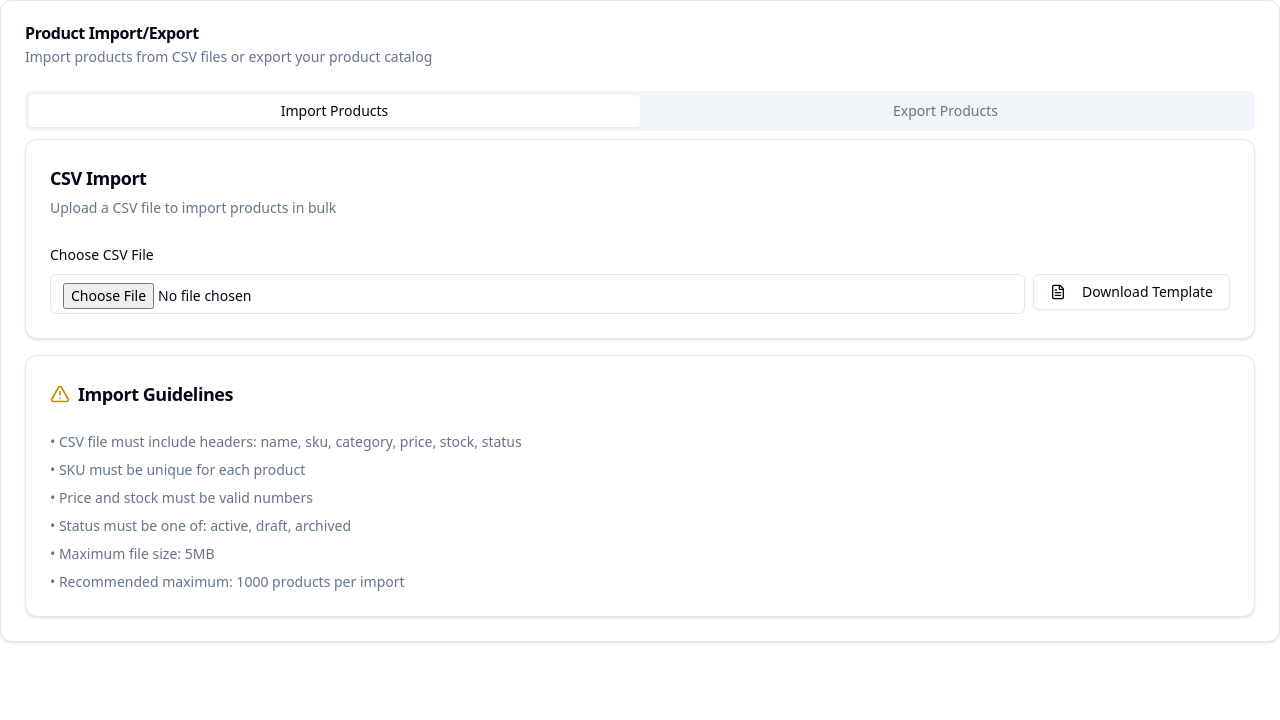
ProductImportExport › Export Tab › should show export options
Click the tab "Export Products" at (946, 111), box [640,95,1251,127]
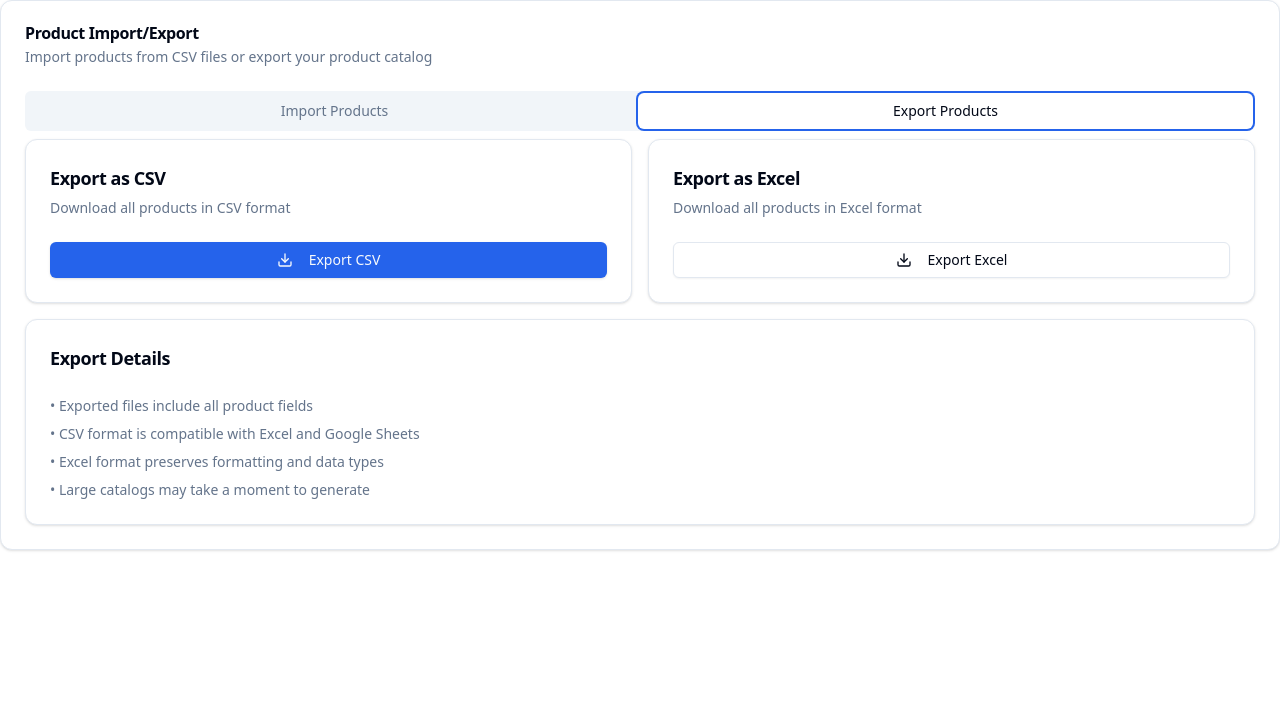
Check: the heading "Export as CSV" is shown, box [50,166,165,190]
Check: the heading "Export as Excel" is shown, box [673,166,800,190]
